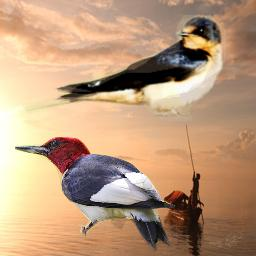Swallow: (22, 15, 226, 121)
Woodpecker: (15, 137, 175, 251)
